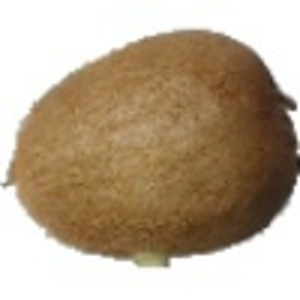kiwi: (3, 26, 300, 271)
